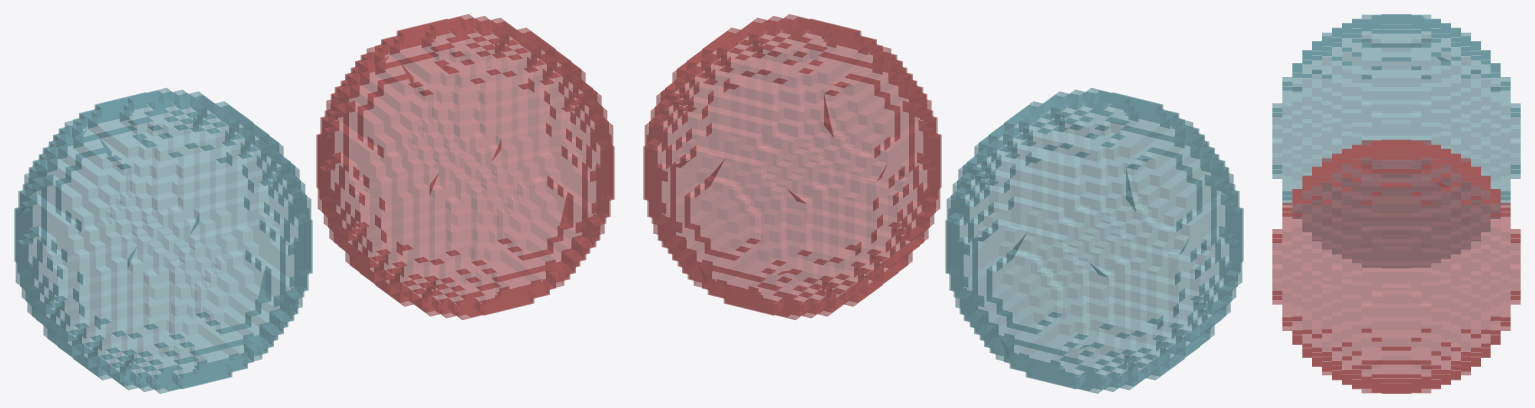
The model's file is twins.glb.
The picture shows the model from 3 angles, left to right: view 1: azimuth 30°, elevation 25°; view 2: azimuth 150°, elevation 25°; view 3: azimuth 270°, elevation 25°; orthographic projection. The views are drawn at different scales.
Visible parts, largest first — view 1: SM_TwinBall_Blue_01, SM_TwinBall_Red_01; view 2: SM_TwinBall_Blue_01, SM_TwinBall_Red_01; view 3: SM_TwinBall_Red_01, SM_TwinBall_Blue_01.
Boxes of the visible parts, x1,y1,x2,y2 form: SM_TwinBall_Blue_01: [14, 87, 312, 393]; SM_TwinBall_Red_01: [316, 14, 614, 319]; SM_TwinBall_Blue_01: [945, 88, 1243, 393]; SM_TwinBall_Red_01: [643, 14, 941, 319]; SM_TwinBall_Red_01: [1272, 139, 1520, 393]; SM_TwinBall_Blue_01: [1272, 14, 1520, 267].
Size of the model in its own units: 5.5 by 2.5 by 2.5.
